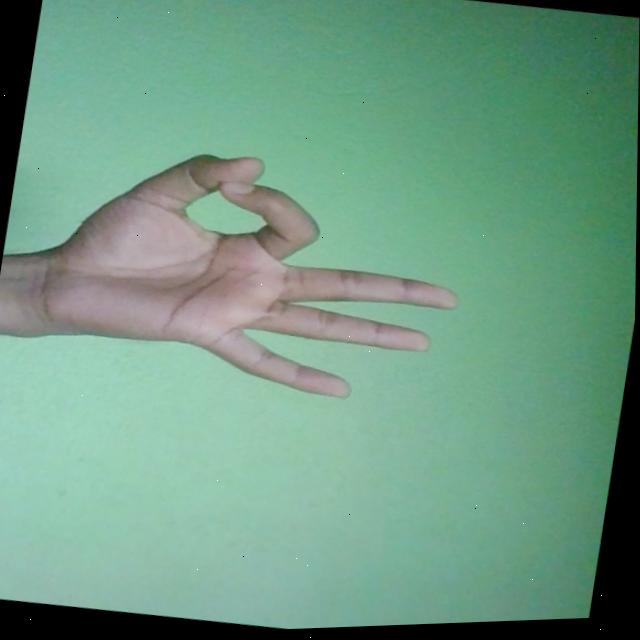Ok: (15, 126, 479, 426)
